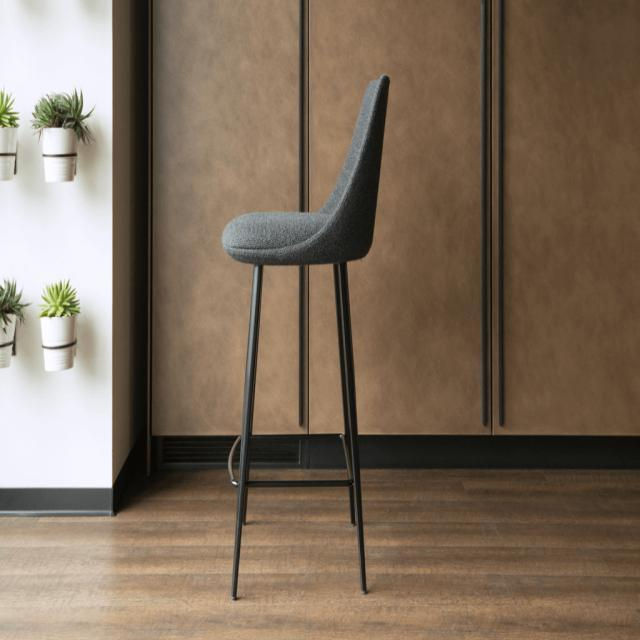chair: (220, 66, 394, 598), (222, 66, 380, 254)
